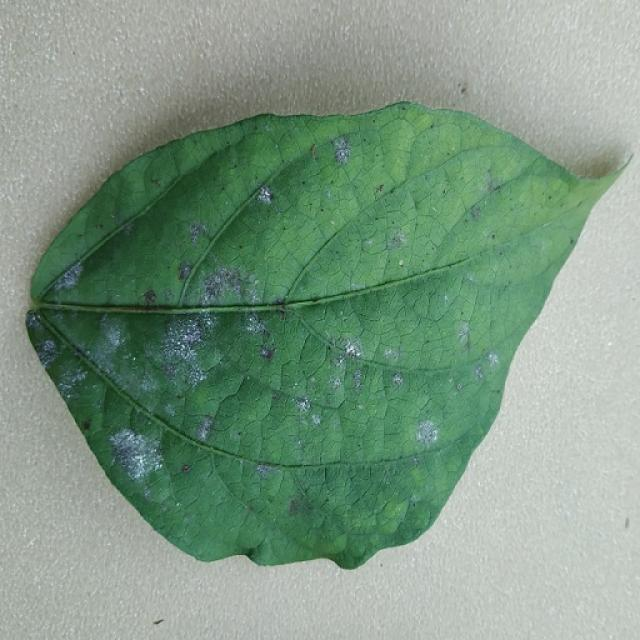Powdery_Mildew: (154, 310, 235, 416), (102, 394, 165, 481), (89, 315, 140, 384), (52, 352, 93, 399), (199, 266, 250, 303), (470, 347, 502, 384), (172, 318, 206, 352), (53, 264, 83, 292), (33, 337, 58, 366), (379, 497, 408, 522), (337, 337, 363, 361), (243, 314, 268, 337), (416, 420, 438, 445), (331, 137, 351, 163), (204, 277, 225, 299), (456, 322, 472, 348), (188, 223, 207, 244), (386, 231, 406, 250), (304, 375, 320, 398), (161, 359, 180, 378), (293, 396, 311, 415), (177, 261, 194, 281), (409, 467, 424, 489), (26, 313, 44, 331), (289, 498, 308, 515), (257, 186, 274, 204), (255, 464, 275, 479), (486, 174, 501, 193), (348, 277, 367, 292), (161, 400, 177, 417), (142, 288, 157, 306), (351, 368, 363, 389), (259, 345, 275, 360), (121, 220, 135, 235), (469, 205, 483, 220), (487, 351, 500, 366), (383, 347, 398, 360), (391, 374, 404, 387), (203, 314, 215, 328), (474, 365, 485, 380), (330, 376, 342, 389), (409, 493, 420, 505), (270, 390, 281, 402), (99, 313, 110, 324), (311, 413, 321, 425), (362, 238, 374, 248), (465, 271, 475, 282), (412, 456, 421, 467), (308, 375, 317, 385), (443, 294, 449, 302), (456, 383, 462, 391), (398, 259, 404, 266), (147, 419, 153, 426), (431, 206, 438, 212), (358, 404, 364, 410), (570, 238, 575, 245), (491, 234, 496, 240), (330, 220, 335, 225), (340, 309, 344, 315)
